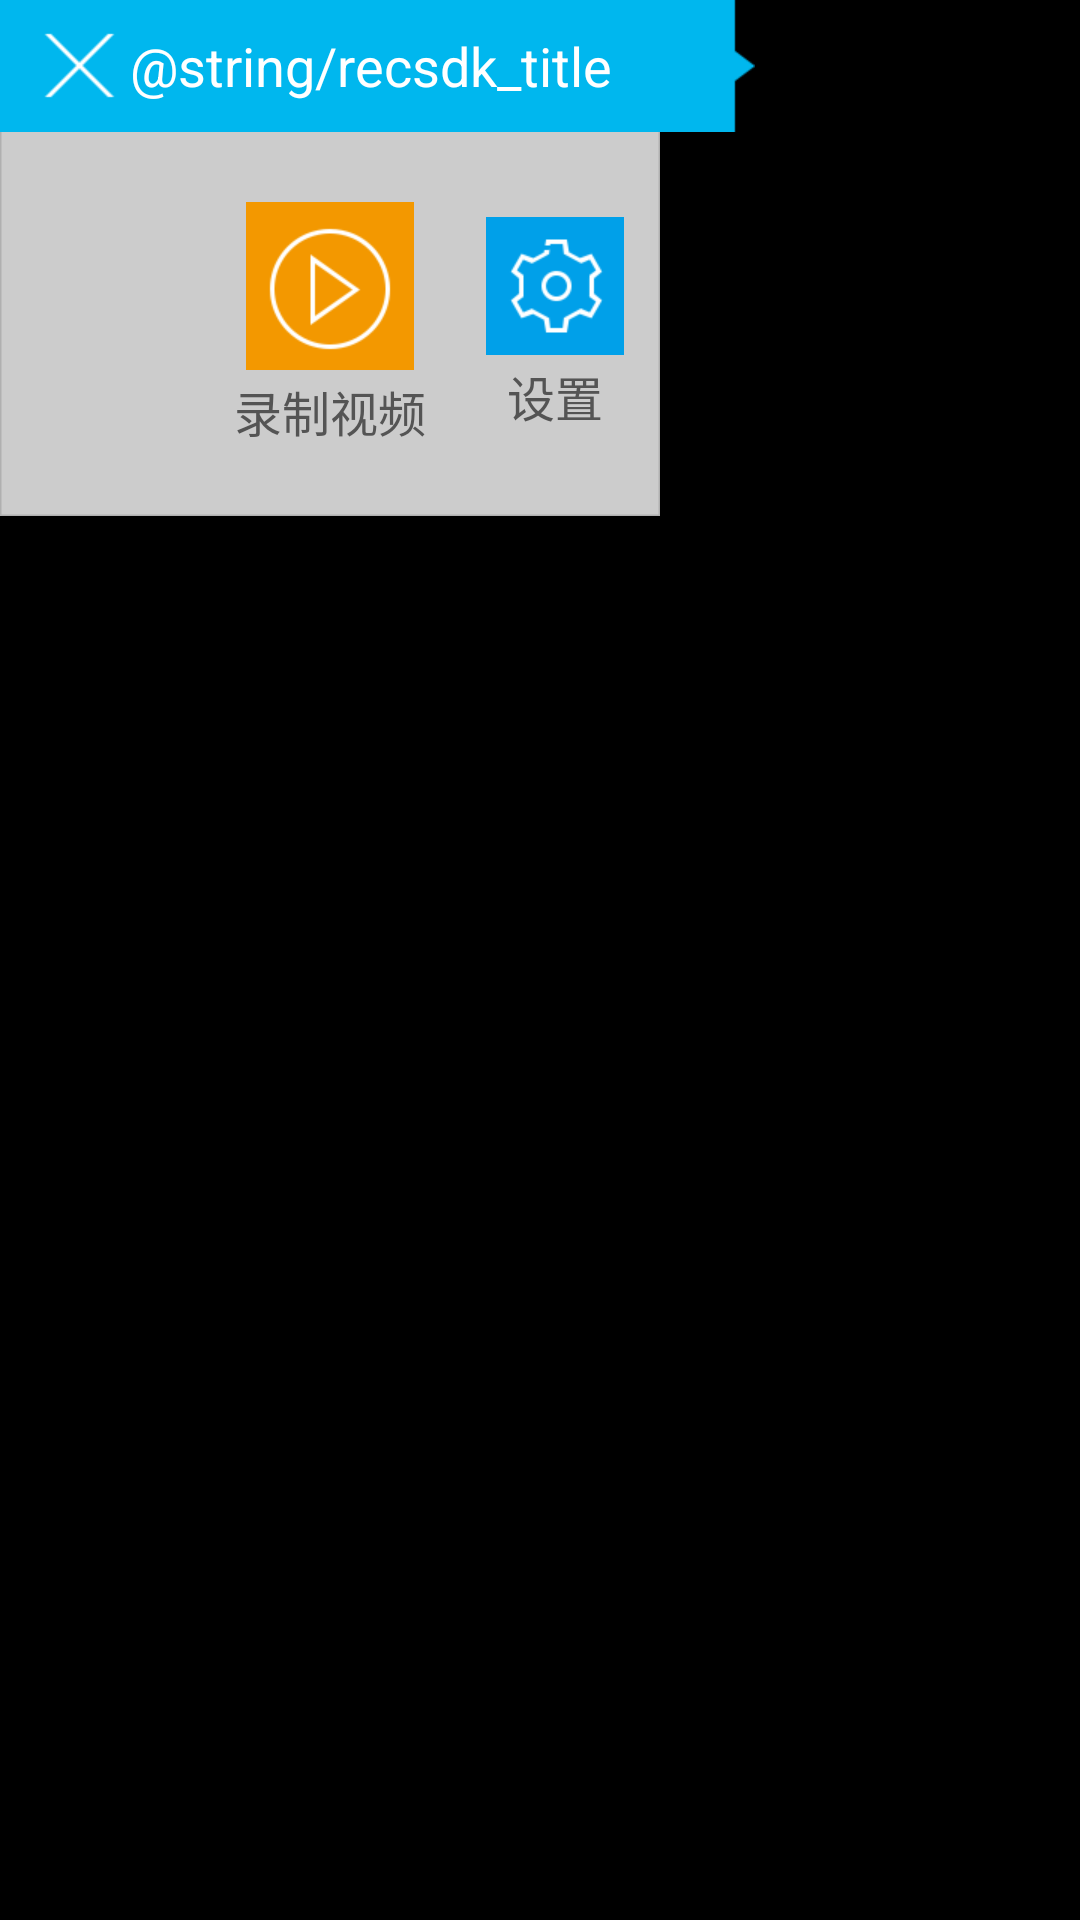

Icon bounding boxes for this 1080x1920 phone screenshot, format (x1, y1, x2, y2):
close main float window: (45, 33, 114, 98)
